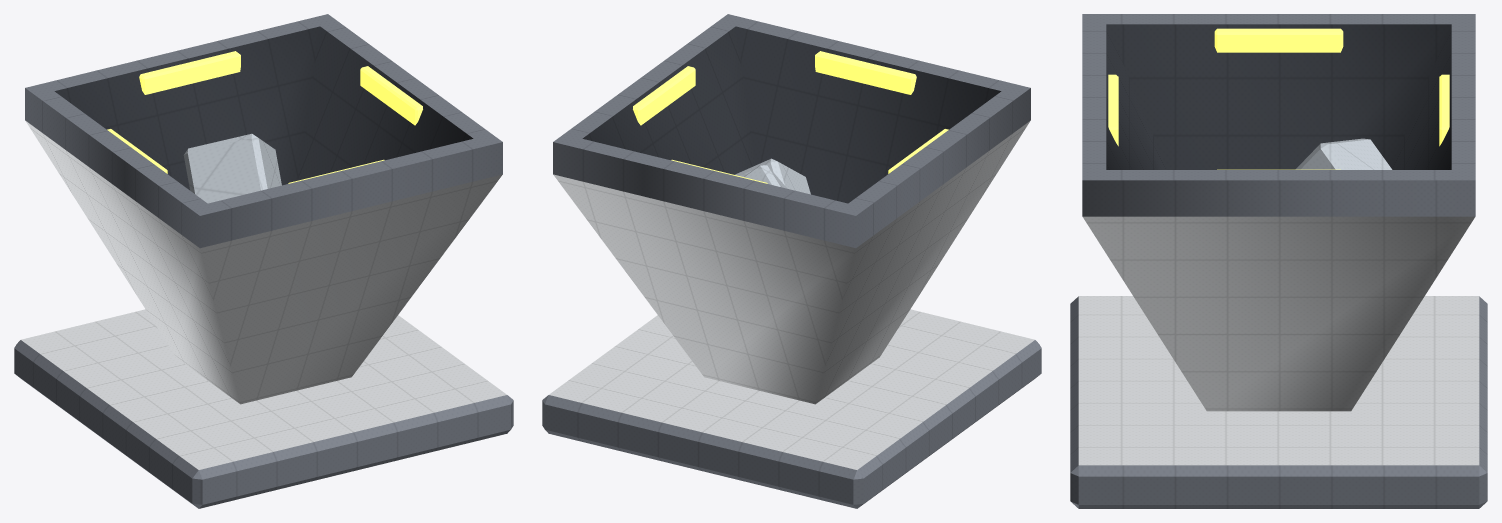
The model's file is R4X_SalvageOptimizer_LOD1.glb.
The picture shows the model from 3 angles, left to right: view 1: azimuth 30°, elevation 25°; view 2: azimuth 150°, elevation 25°; view 3: azimuth 270°, elevation 25°; orthographic projection. The views are drawn at different scales.
Visible parts, largest first — view 1: R4X_SalvageOptimizer_LOD1; view 2: R4X_SalvageOptimizer_LOD1; view 3: R4X_SalvageOptimizer_LOD1.
Boxes of the visible parts, x1=… form: R4X_SalvageOptimizer_LOD1: x1=14, y1=14, x2=513, y2=508; R4X_SalvageOptimizer_LOD1: x1=542, y1=14, x2=1041, y2=508; R4X_SalvageOptimizer_LOD1: x1=1070, y1=14, x2=1487, y2=508.
Size of the model in its own units: 0.52 by 0.45 by 0.52.
Materials: 5 (4 with a texture image).
